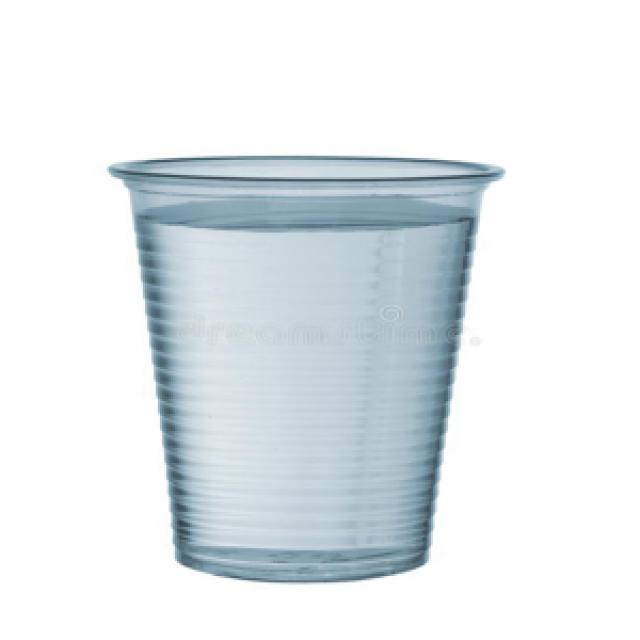plastic cup: (102, 145, 510, 591)
